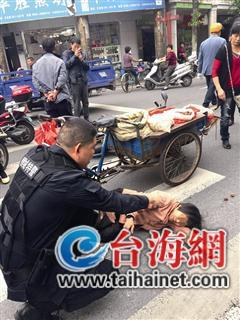fall: (96, 179, 196, 246)
